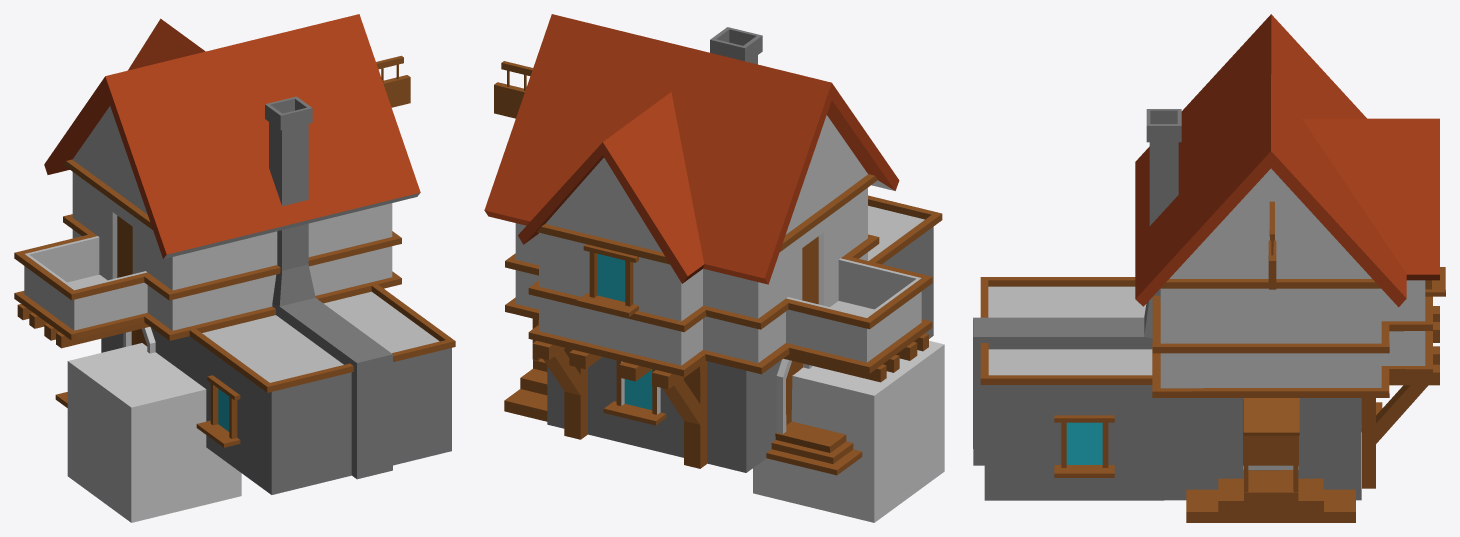
File: Home.fbx
The picture shows the model from 3 angles, left to right: view 1: azimuth 30°, elevation 25°; view 2: azimuth 150°, elevation 25°; view 3: azimuth 270°, elevation 25°; orthographic projection. The views are drawn at different scales.
Visible parts, largest first — view 1: Cube.001, Cube; view 2: Cube.001, Cube; view 3: Cube.001.
Boxes of the visible parts, x1,y1,x2,y2 form: Cube.001: (14, 14, 455, 494); Cube: (67, 343, 241, 522); Cube.001: (484, 14, 942, 475); Cube: (753, 340, 944, 522); Cube.001: (973, 14, 1445, 522).
Bounding box in the file's own units: 672 × 678 × 671.
